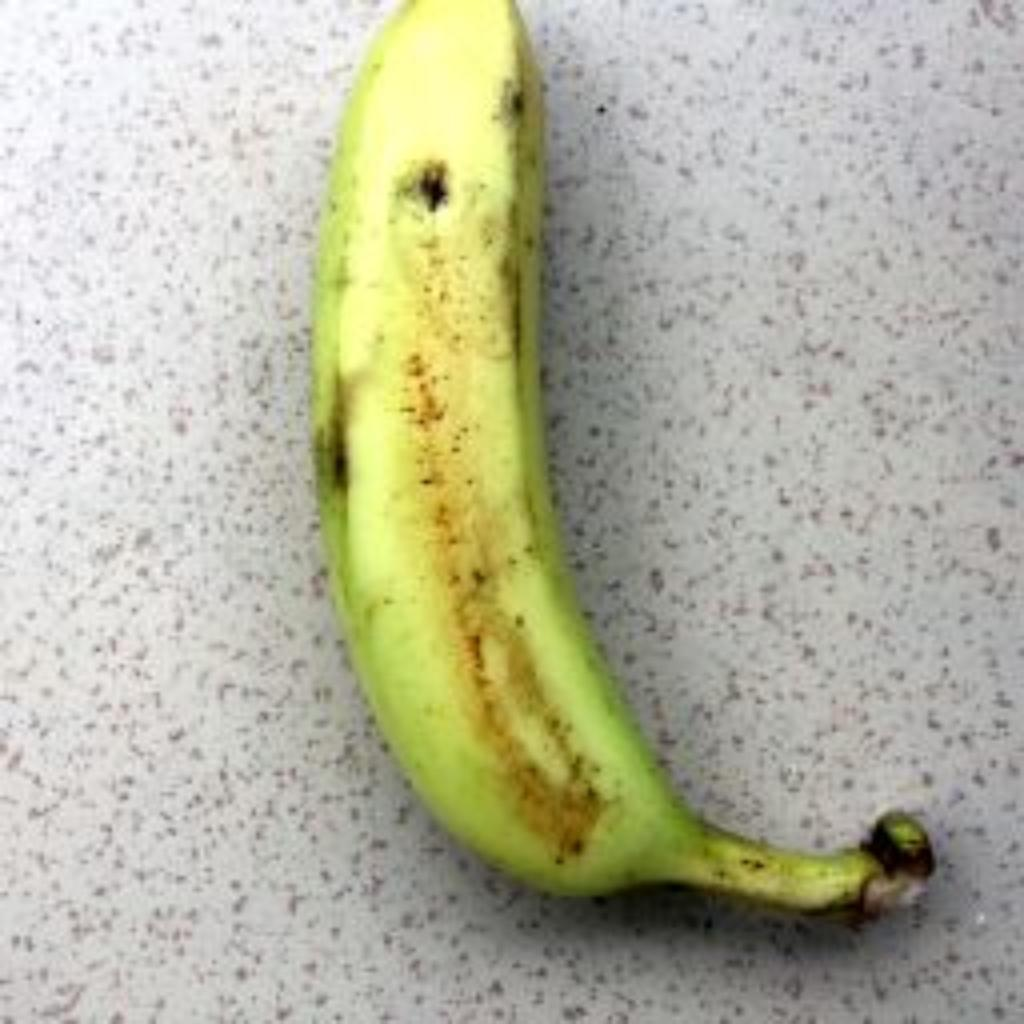banana: (312, 0, 960, 923)
